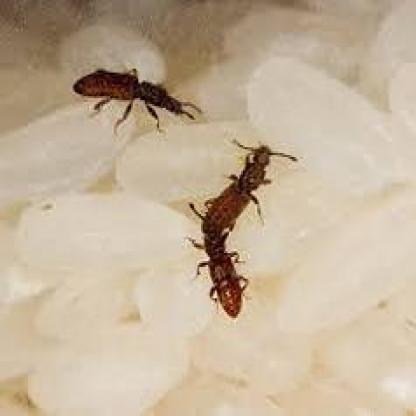rice-bug: (187, 140, 306, 320), (72, 67, 195, 122)
